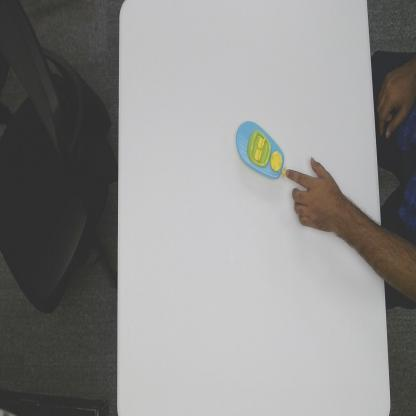Arm: (339, 196, 382, 274)
Boat: (235, 118, 288, 182)
Hand: (286, 155, 337, 233)
